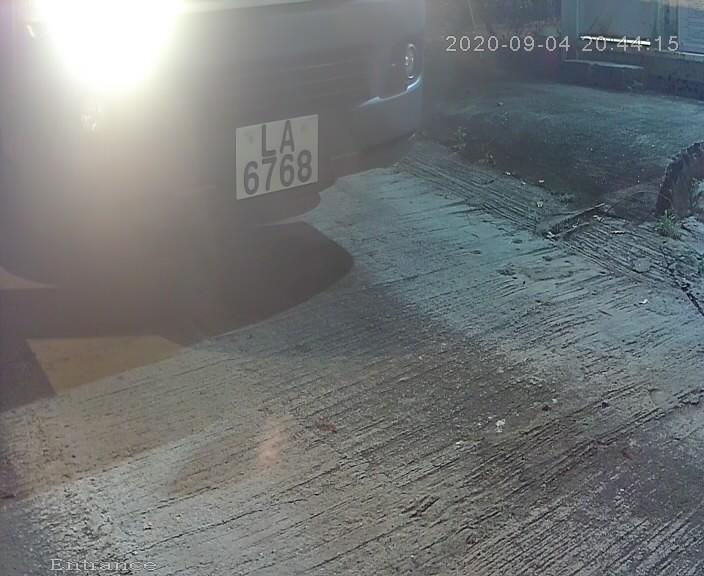License Plate: (224, 96, 331, 214)
